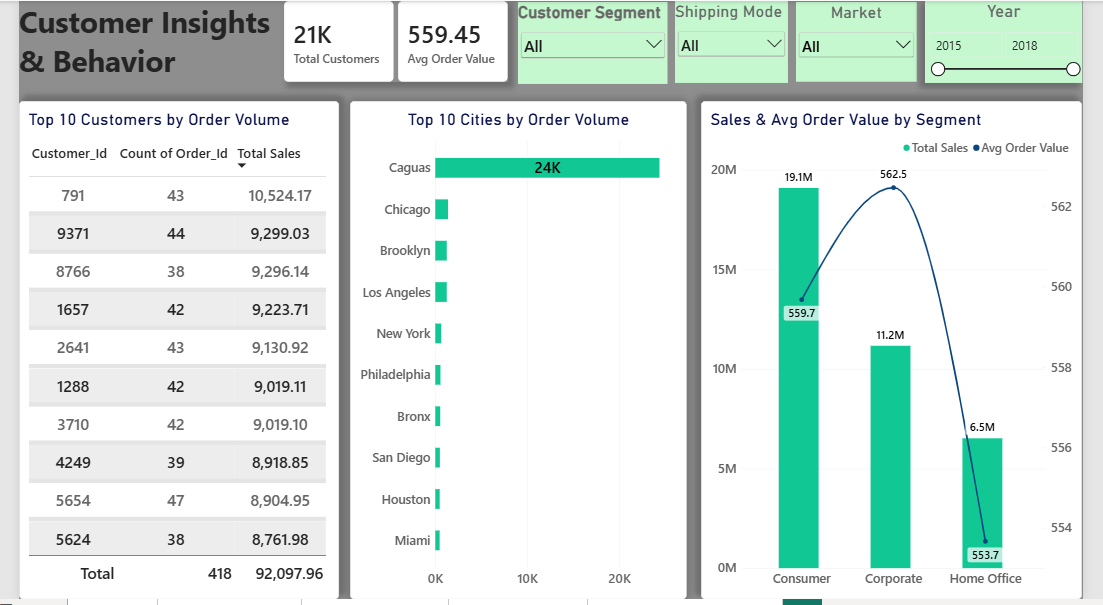

The page's visual inventory and layout, read from the dashboard file:
{"tool":"powerbi","page":{"name":"Customer Insights","canvas":[1920,1080],"ordinal":3},"visuals":[{"type":"cardVisual","fields":{"Data":["Measure Table.Total Customers","Measure Table.Avg Order Value"]},"box":[479,0,404.6,146.6],"z":0},{"type":"clusteredBarChart","title":"Top 10 Cities by Order Volume","fields":{"Category":["Dim_Customer.Customer_City"],"Y":["Count(Fact_Orders.Order_Id)"]},"box":[597.5,180,607.5,900],"z":1000},{"type":"lineClusteredColumnComboChart","title":"Sales & Avg Order Value by Segment","fields":{"Category":["Dim_Customer.Customer_Segment"],"Y":["Measure Table.Total Sales"],"Y2":["Measure Table.Avg Order Value"]},"box":[1232.5,180,687.5,900],"z":2000},{"type":"tableEx","title":"Top 10 Customers by Order Volume","fields":{"Values":["Dim_Customer.Customer_Id","CountNonNull(Fact_Orders.Order_Id)","Measure Table.Total Sales"]},"box":[0,180,577.5,900],"z":3000},{"type":"slicer","title":"Customer Segment","fields":{"Values":["Dim_Customer.Customer_Segment"]},"box":[902,2,270,148],"z":4000},{"type":"slicer","title":"Shipping Mode","fields":{"Values":["Fact_Orders.Shipping_Mode"]},"box":[1184,0,204,148],"z":5000},{"type":"slicer","title":"Market","fields":{"Values":["Fact_Orders.Market"]},"box":[1404,2,218,144],"z":6000},{"type":"slicer","title":"  Year","fields":{"Values":["Dim_Date.Year"]},"box":[1636,0,284,148],"z":7000},{"type":"textbox","box":[0,0,464.5,150.7],"z":8000}]}

Visuals, with their boxes in screenshot pixels (x1, y1, x2, y2), scaled from the page's 1920x1080 canvas onto the 1103x605 screenshot:
cardVisual - Measure Table.Total Customers x Measure Table.Avg Order Value: 275/0/508/82
"Top 10 Cities by Order Volume" clusteredBarChart: 343/101/692/604
"Sales & Avg Order Value by Segment" lineClusteredColumnComboChart: 708/101/1102/604
"Top 10 Customers by Order Volume" tableEx: 0/101/332/604
"Customer Segment" slicer: 518/1/673/84
"Shipping Mode" slicer: 680/0/797/83
"Market" slicer: 807/1/932/82
"  Year" slicer: 940/0/1102/83
textbox: 0/0/267/84
